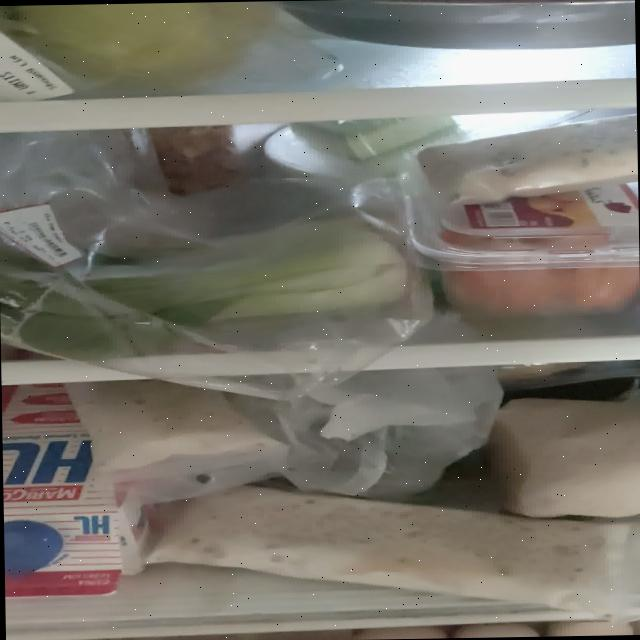pakchoy: (0, 221, 406, 361)
tempeh: (143, 478, 640, 619), (414, 112, 638, 206), (62, 378, 279, 472)
unknown_bag: (276, 366, 504, 498)
